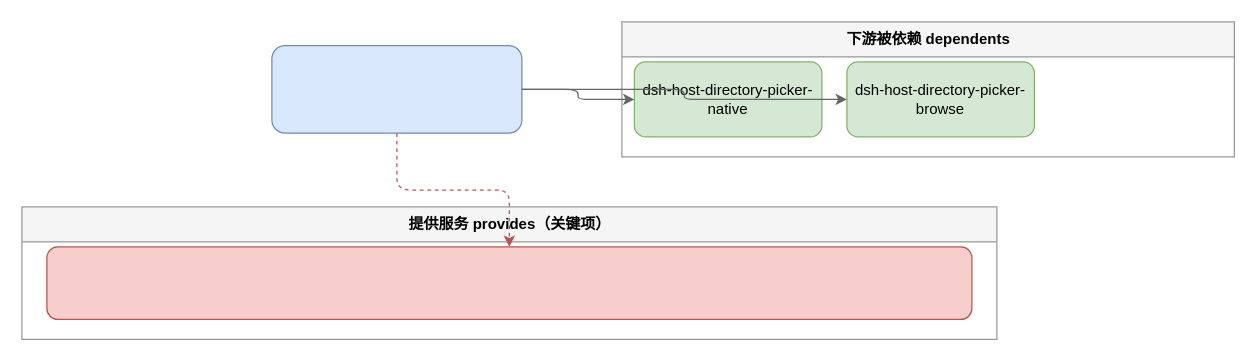
This 1256x361 diagram has some shape labels left out. The centre of each missing label's shape, as x and y in pixels:
"@deepseek-ai/dsh-host-directory-picker" belongs at point 396,88.
"ctx.directoryPicker 抽象服务（native|browse 判别能力）" belongs at point 509,282.
